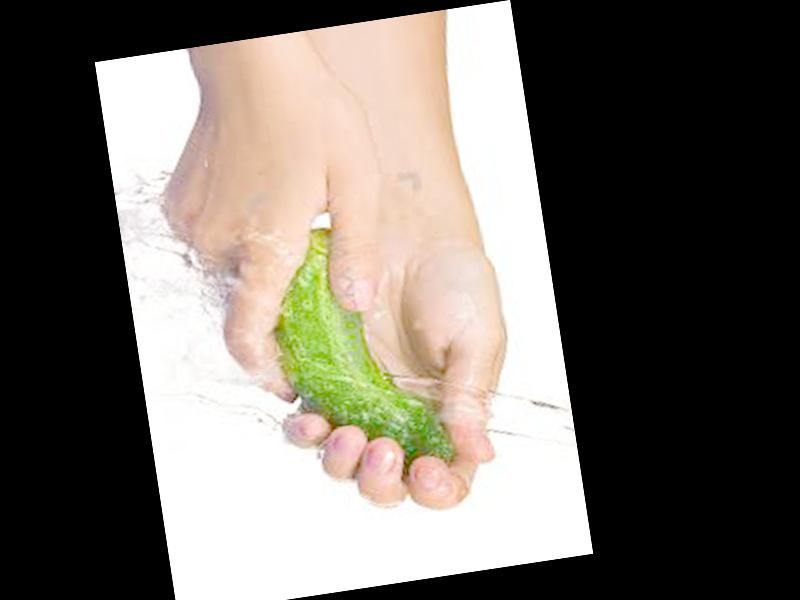Cucumber: (257, 211, 456, 486)
